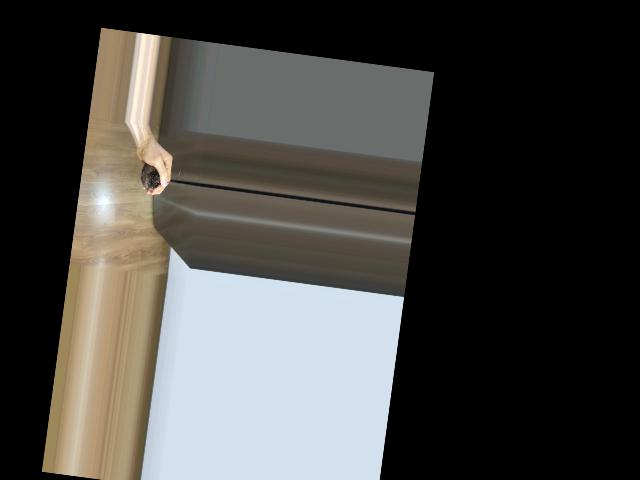beet: (138, 162, 181, 195)
